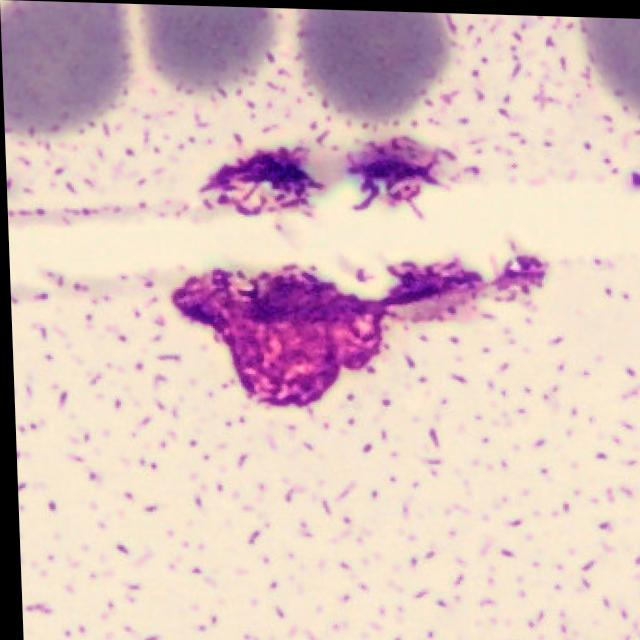Restos celulares: (169, 253, 538, 405)
